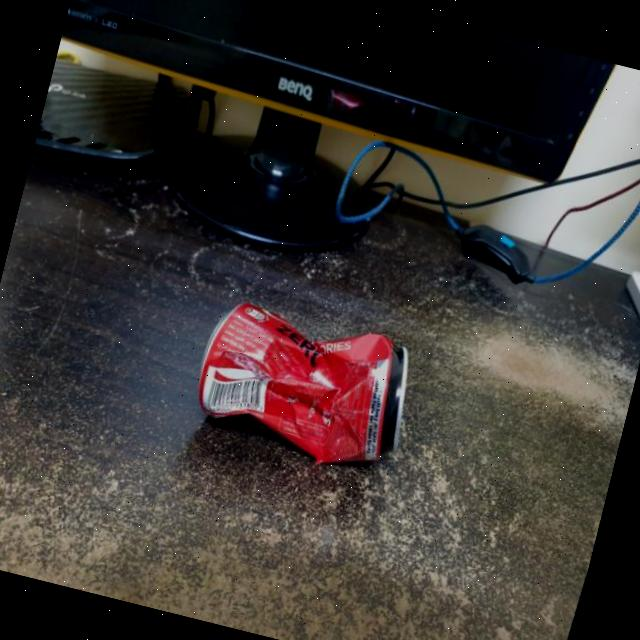trash: (186, 290, 432, 484)
